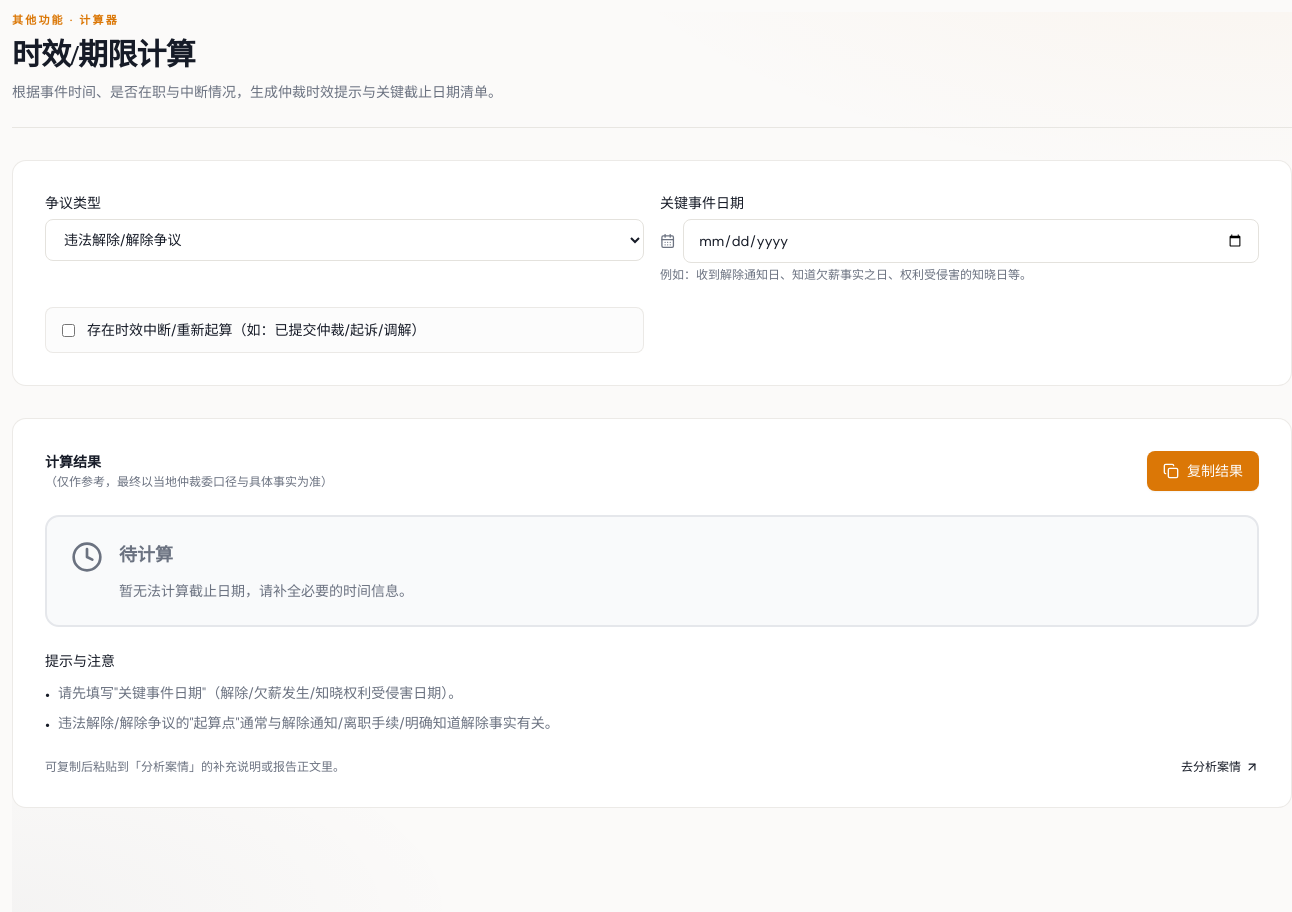
it: LimitationCalculator › calculates deadline for illegal termination
Type "2024-01-01" into the date field at coordinates (971, 241), box left=683, top=219, right=1259, bottom=263
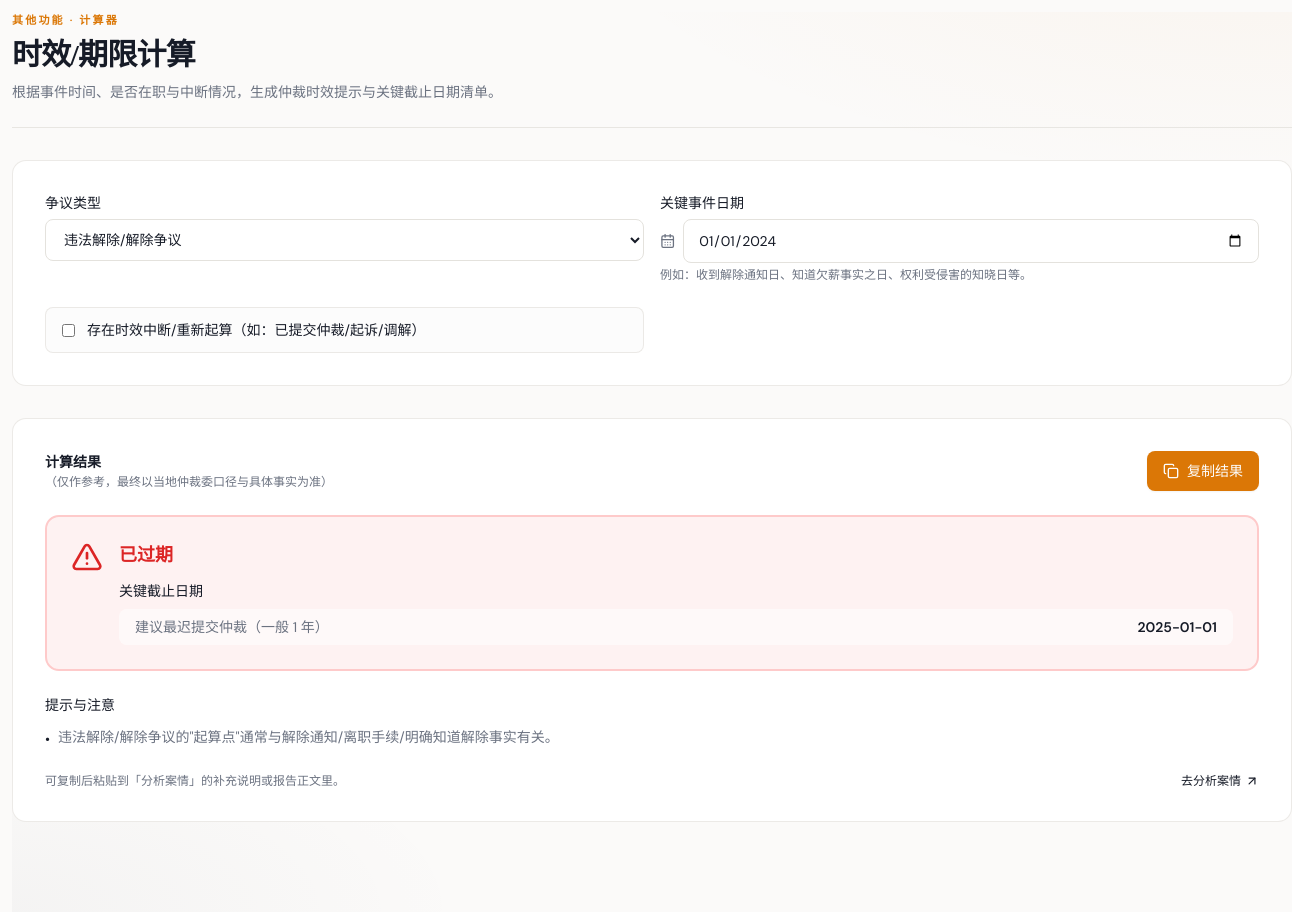
Check: the text "2025-01-01" is shown, box left=1138, top=617, right=1217, bottom=637
Check: the text "建议最迟提交仲裁（一般 1 年）" is shown, box left=135, top=617, right=329, bottom=637
